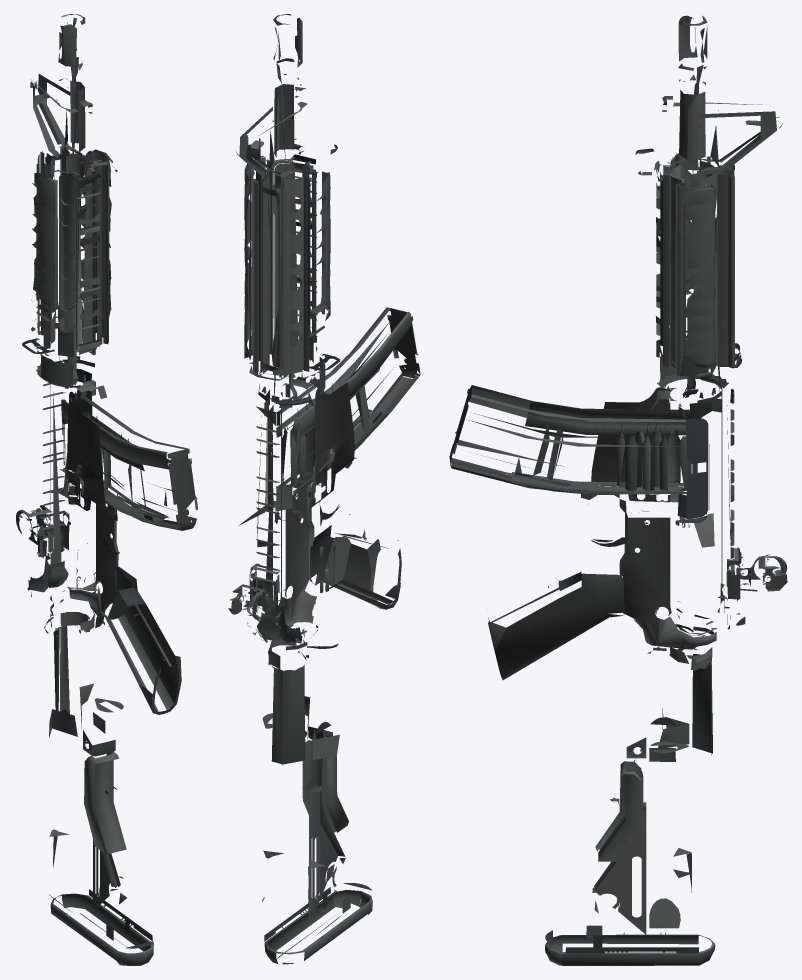
The picture shows the model from 3 angles, left to right: view 1: azimuth 30°, elevation 25°; view 2: azimuth 150°, elevation 25°; view 3: azimuth 270°, elevation 25°; orthographic projection. The views are drawn at different scales.
Parts seen in each view (by area): view 1: asset_M4A4.001; view 2: asset_M4A4.001; view 3: asset_M4A4.001.
Part boxes in pixels (x1,y1,x2,y2): asset_M4A4.001: (16, 14, 197, 965); asset_M4A4.001: (228, 14, 420, 964); asset_M4A4.001: (449, 15, 787, 965).
Size of the model in its own units: 0.0452 by 0.444 by 0.1447.
